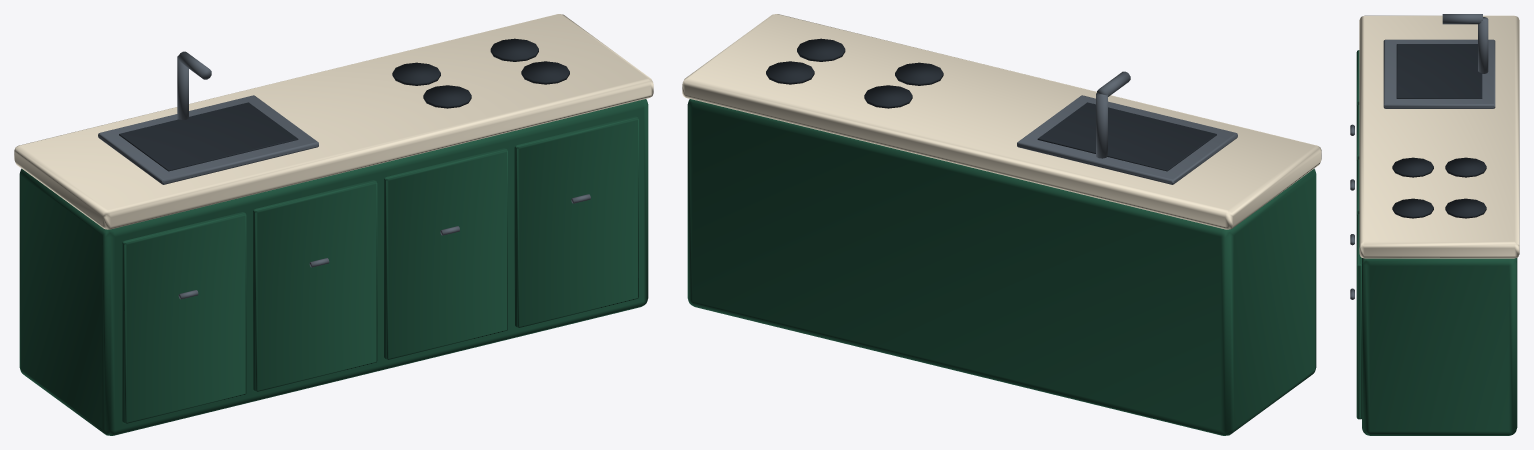
File: shelter-kitchenette.glb
The picture shows the model from 3 angles, left to right: view 1: azimuth 30°, elevation 25°; view 2: azimuth 150°, elevation 25°; view 3: azimuth 270°, elevation 25°; orthographic projection. The views are drawn at different scales.
Parts seen in each view (by area): view 1: interior_1_trim, interior_1_ivory.003, interior_1_dark, interior_1_metal.001; view 2: interior_1_trim, interior_1_ivory.003, interior_1_dark, interior_1_metal.001; view 3: interior_1_trim, interior_1_ivory.003, interior_1_dark, interior_1_metal.001.
Part boxes in pixels (box(x1,y1,x2,y2)): interior_1_trim: box(19, 99, 648, 435); interior_1_ivory.003: box(14, 14, 653, 229); interior_1_dark: box(119, 38, 569, 171); interior_1_metal.001: box(98, 51, 590, 299); interior_1_trim: box(687, 99, 1316, 435); interior_1_ivory.003: box(682, 14, 1321, 229); interior_1_dark: box(766, 38, 1216, 171); interior_1_metal.001: box(1017, 71, 1237, 184); interior_1_trim: box(1356, 50, 1517, 435); interior_1_ivory.003: box(1359, 15, 1519, 258); interior_1_dark: box(1392, 44, 1486, 218); interior_1_metal.001: box(1350, 14, 1495, 299).
Size of the model in its own units: 2.62 by 1.38 by 0.8189.
